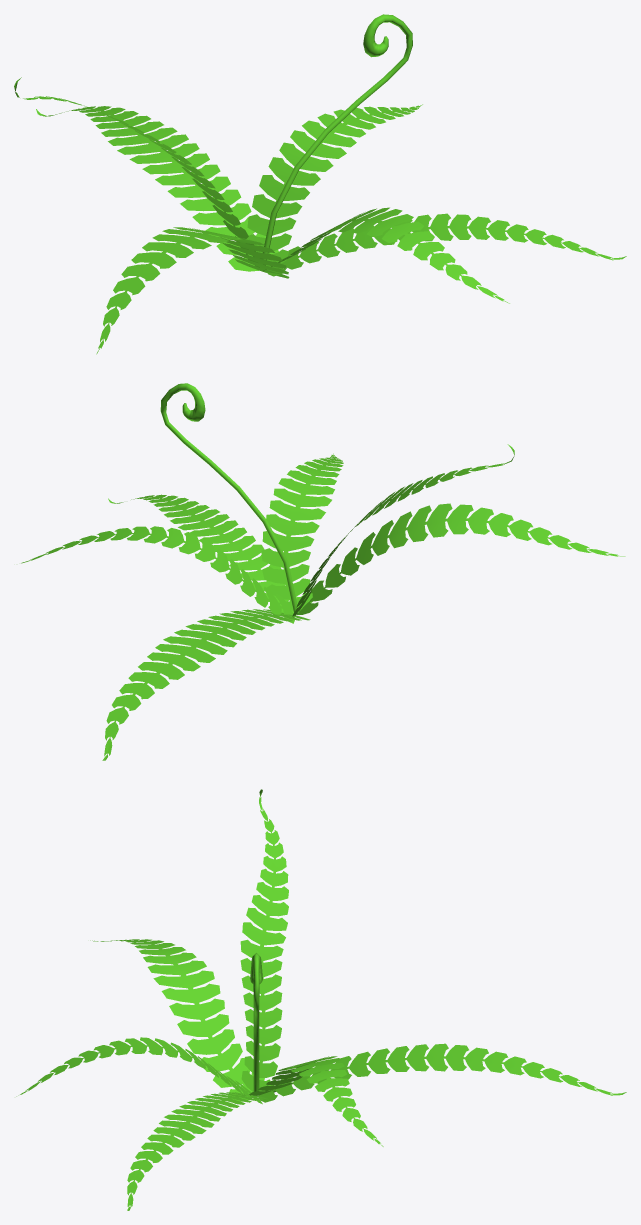
Rendered from swamp_fern.fbx.
The picture shows the model from 3 angles, top to bottom: view 1: azimuth 30°, elevation 25°; view 2: azimuth 150°, elevation 25°; view 3: azimuth 270°, elevation 25°; orthographic projection. The views are drawn at different scales.
Parts seen in each view (by area): view 1: SwampFern, SwapFern_pod; view 2: SwampFern, SwapFern_pod; view 3: SwampFern, SwapFern_pod.
Part boxes in pixels (box(x1,y1,x2,y2)): SwampFern: box(14, 77, 626, 354); SwapFern_pod: box(262, 14, 412, 265); SwampFern: box(21, 444, 625, 760); SwapFern_pod: box(160, 383, 298, 612); SwampFern: box(16, 789, 626, 1210); SwapFern_pod: box(250, 953, 262, 1091).
Bounding box in the file's own units: 2.19 × 0.9528 × 2.5.
